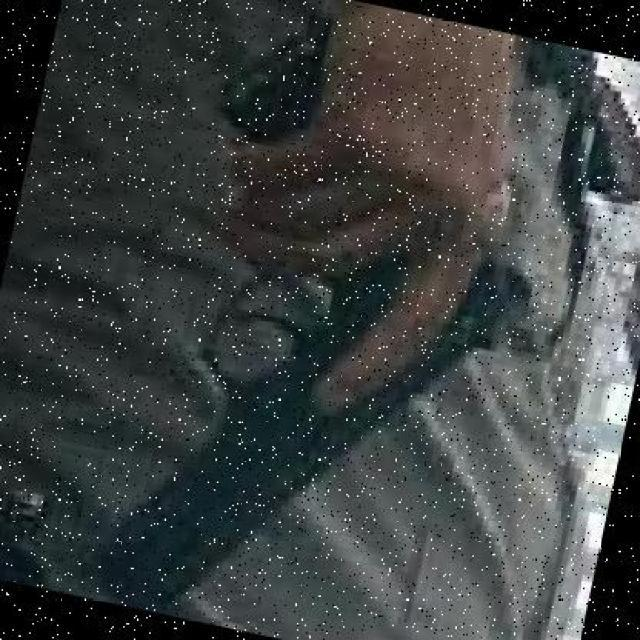rifle: (84, 292, 387, 616)
